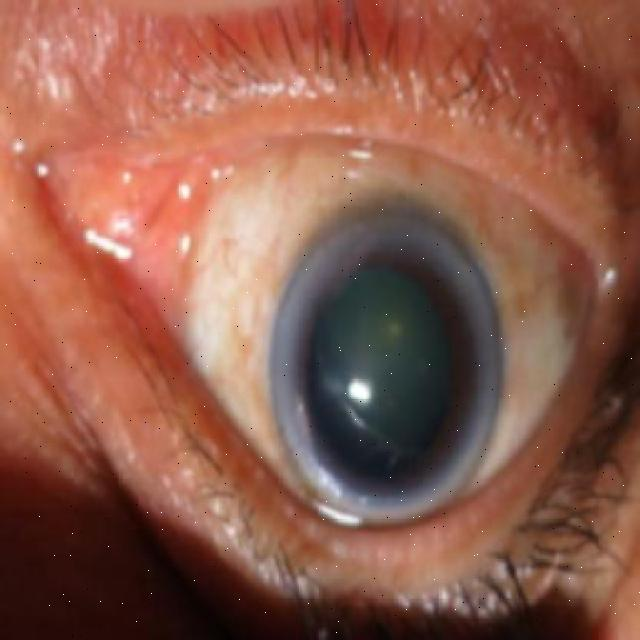Cataract: (266, 199, 498, 526)
